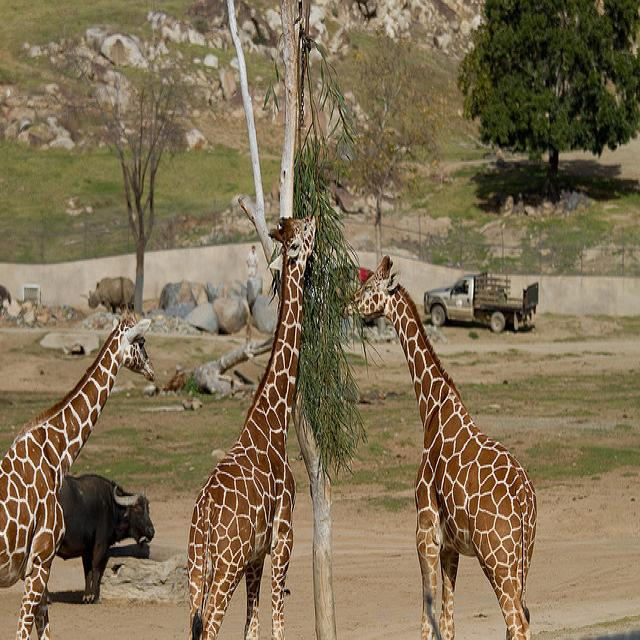Vehicle: (424, 269, 538, 334)
